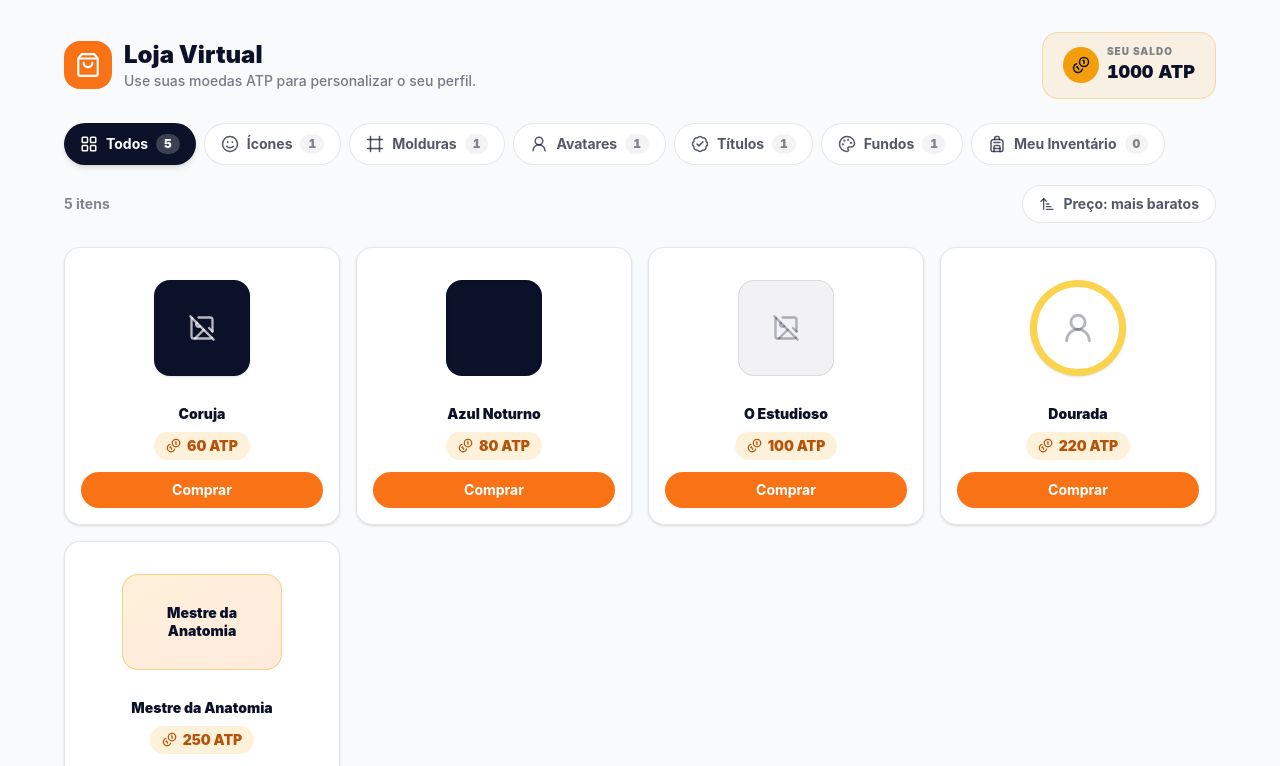
Test case: LojaPage › exibe o inventário vazio
Expected: the heading "Coruja" is shown, [179,404,226,424]
Click the button "Meu Inventário 0": x=1068, y=144 [971,122,1165,164]
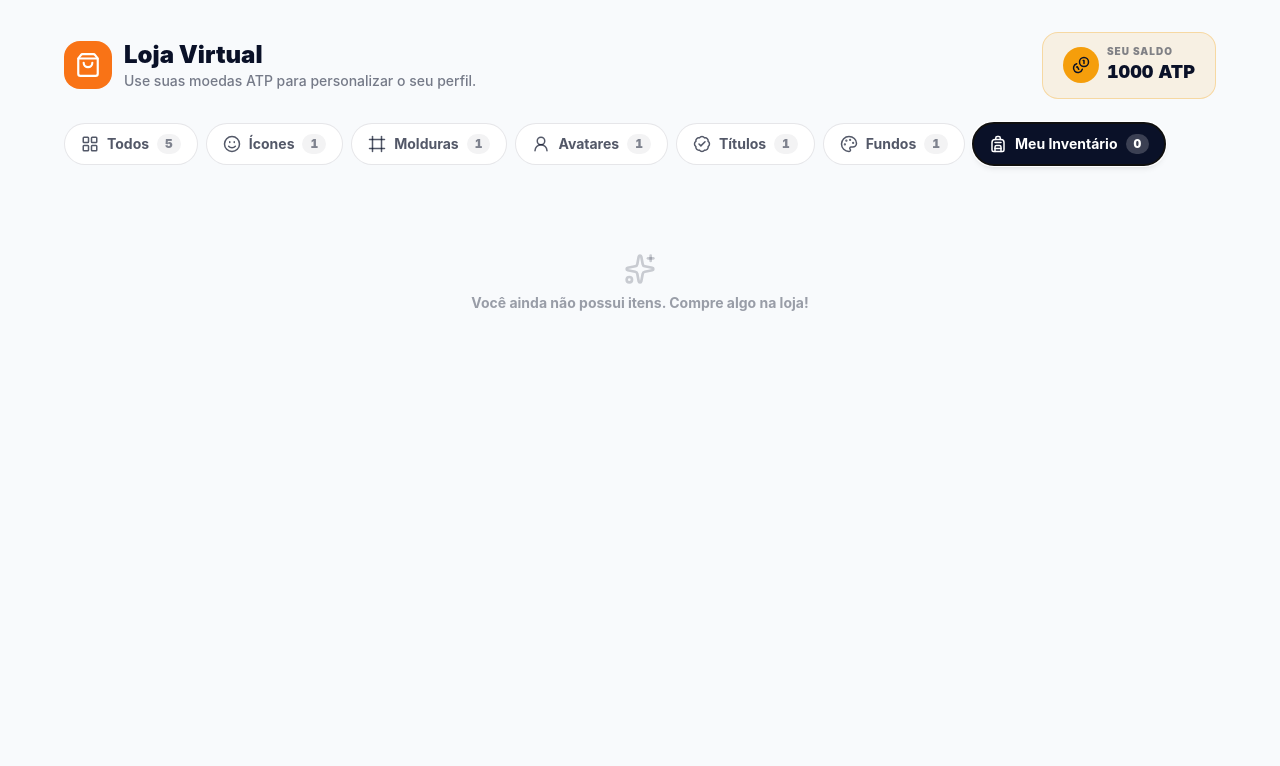
Result: the text "Você ainda não possui itens. Compre algo na loja!" is shown at [471,292,809,312]
